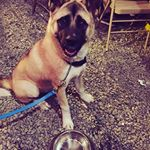puppy: (42, 1, 106, 130)
